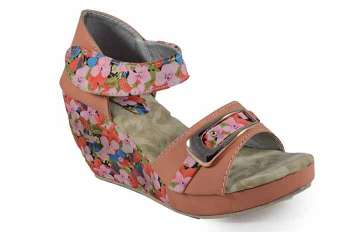Footwear: (57, 7, 320, 220)
